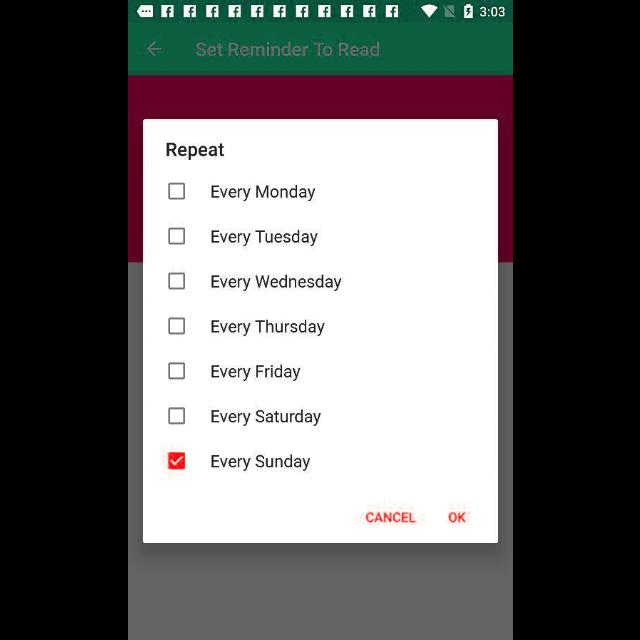checkbox: (168, 228, 185, 244), (167, 273, 183, 289), (167, 317, 183, 333), (167, 362, 183, 378), (167, 407, 183, 423), (167, 452, 183, 468), (167, 184, 183, 198)
icon: (146, 42, 162, 56)
panel: (158, 134, 512, 558)
text: (195, 42, 379, 58), (210, 274, 340, 292), (211, 319, 325, 336), (210, 409, 320, 426), (210, 230, 318, 247), (210, 454, 310, 472), (211, 185, 315, 202), (210, 364, 300, 382), (166, 143, 224, 161), (364, 512, 416, 524), (448, 512, 467, 524)
uppertaskbar: (128, 1, 512, 23)
